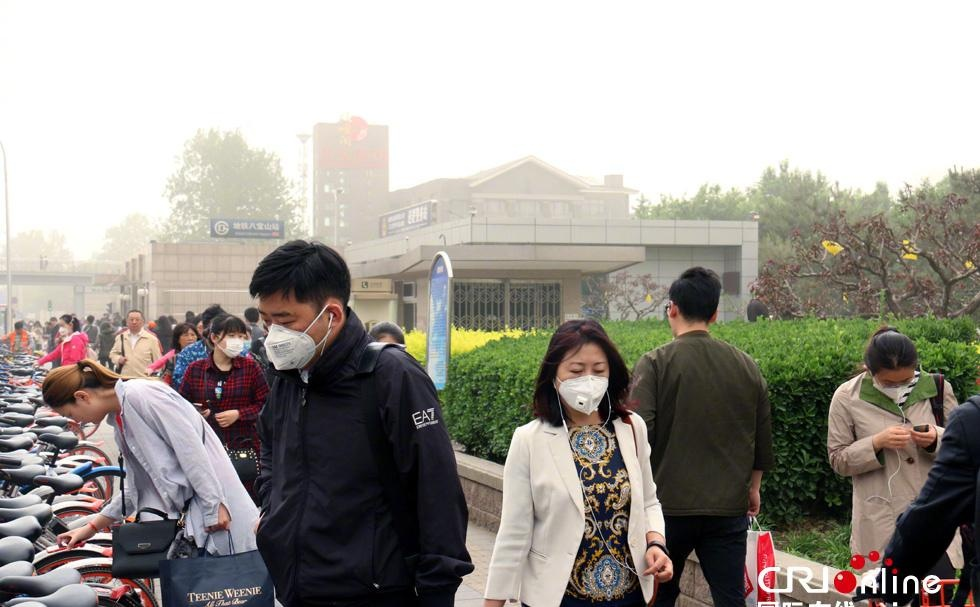Mask: (561, 358, 618, 415)
